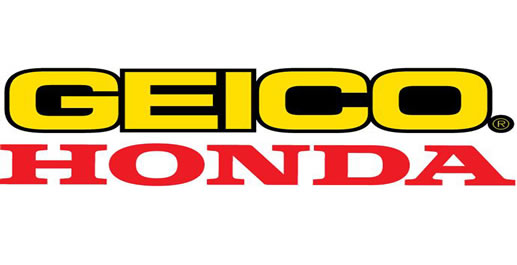Geico: (4, 61, 512, 141)
